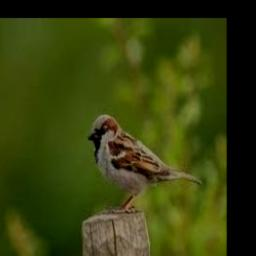Sparrow: (88, 114, 201, 212)
